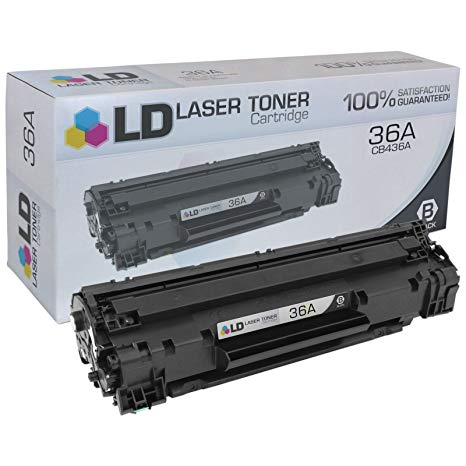Nonrec_Other: (61, 240, 458, 417)
Rec_Paper: (5, 45, 460, 231)
